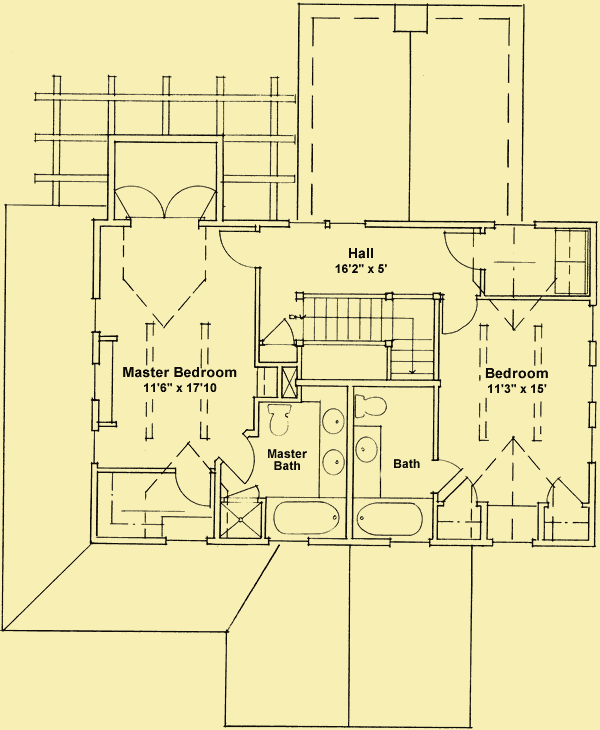door: (113, 182, 214, 223), (211, 225, 269, 271), (439, 226, 490, 278), (168, 465, 212, 511), (219, 432, 257, 485), (439, 291, 482, 337), (545, 472, 586, 513), (441, 473, 482, 511), (431, 456, 465, 495), (259, 315, 296, 348)
large sink: (265, 397, 294, 443), (355, 389, 390, 423)
small sink: (317, 388, 348, 493), (351, 422, 383, 494)
stairs: (293, 289, 445, 388)
tub: (262, 495, 348, 541), (349, 495, 434, 540)
